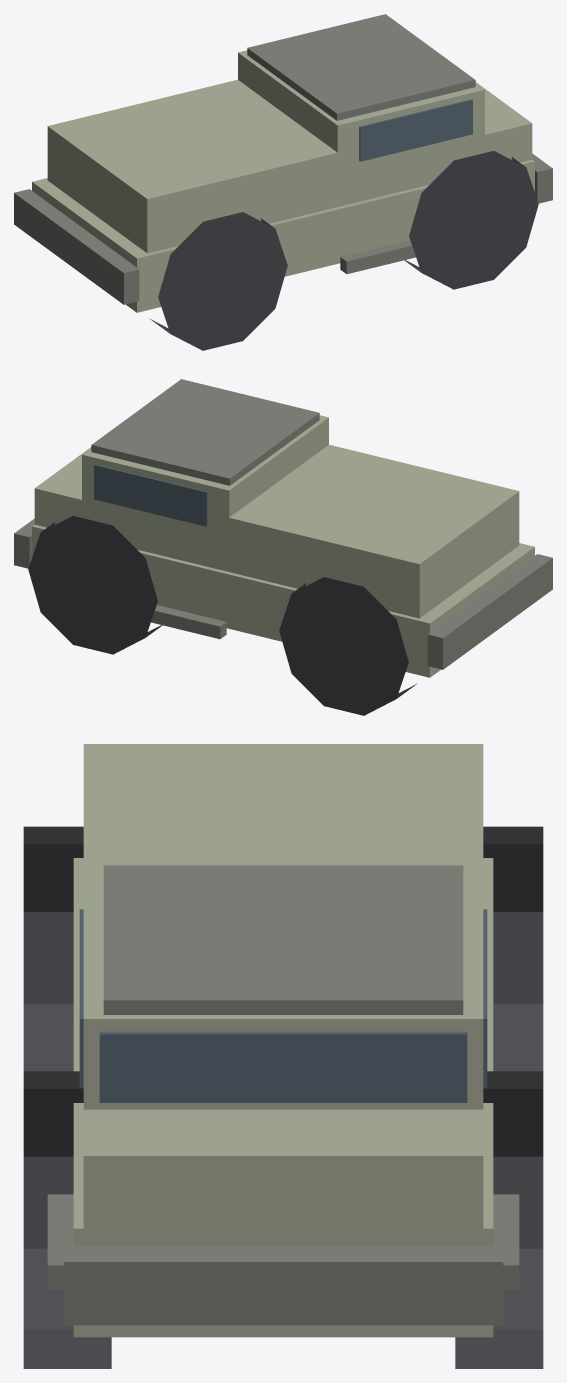
Rendered from escort-vehicle.glb.
3 renders of one model, top to bottom at view 1: azimuth 30°, elevation 25°; view 2: azimuth 150°, elevation 25°; view 3: azimuth 270°, elevation 25°, orthographic. The views are drawn at different scales.
Parts seen in each view (by area): view 1: EscortVehicle; view 2: EscortVehicle; view 3: EscortVehicle.
Part boxes in pixels (left/top/right/bottom): EscortVehicle: left=14, top=14, right=552, bottom=350; EscortVehicle: left=14, top=379, right=552, bottom=715; EscortVehicle: left=23, top=744, right=543, bottom=1368.
Bounding box in the file's own units: 4.96 × 2.04 × 2.6.
